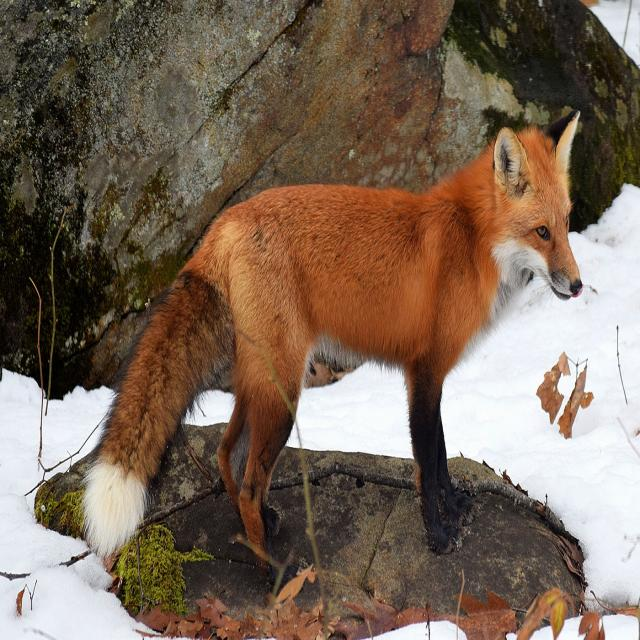Fox: (88, 109, 584, 558)
